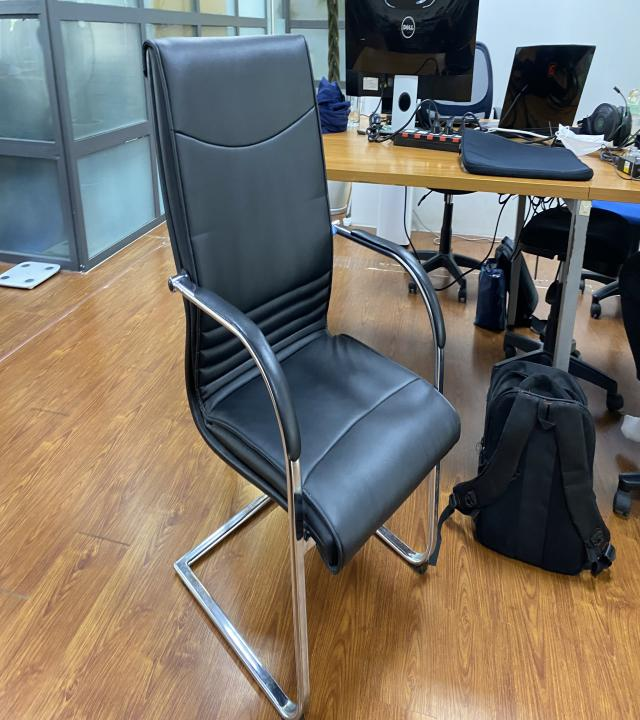SS_03: (142, 28, 462, 719)
